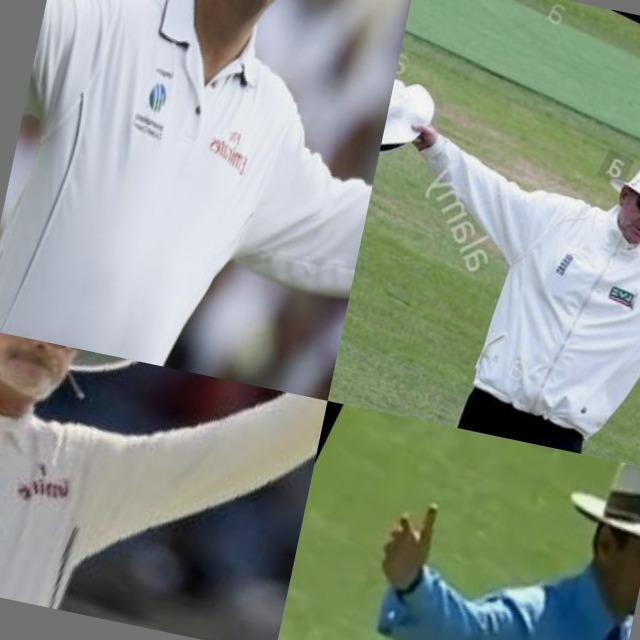Six: (0, 328, 328, 640)
Wide: (0, 0, 418, 401), (328, 8, 640, 471), (276, 401, 640, 640)
